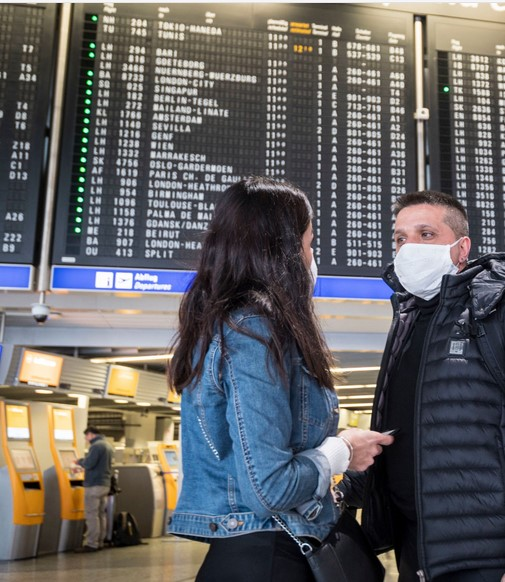face_with_mask: (207, 185, 318, 298), (393, 193, 469, 296)
